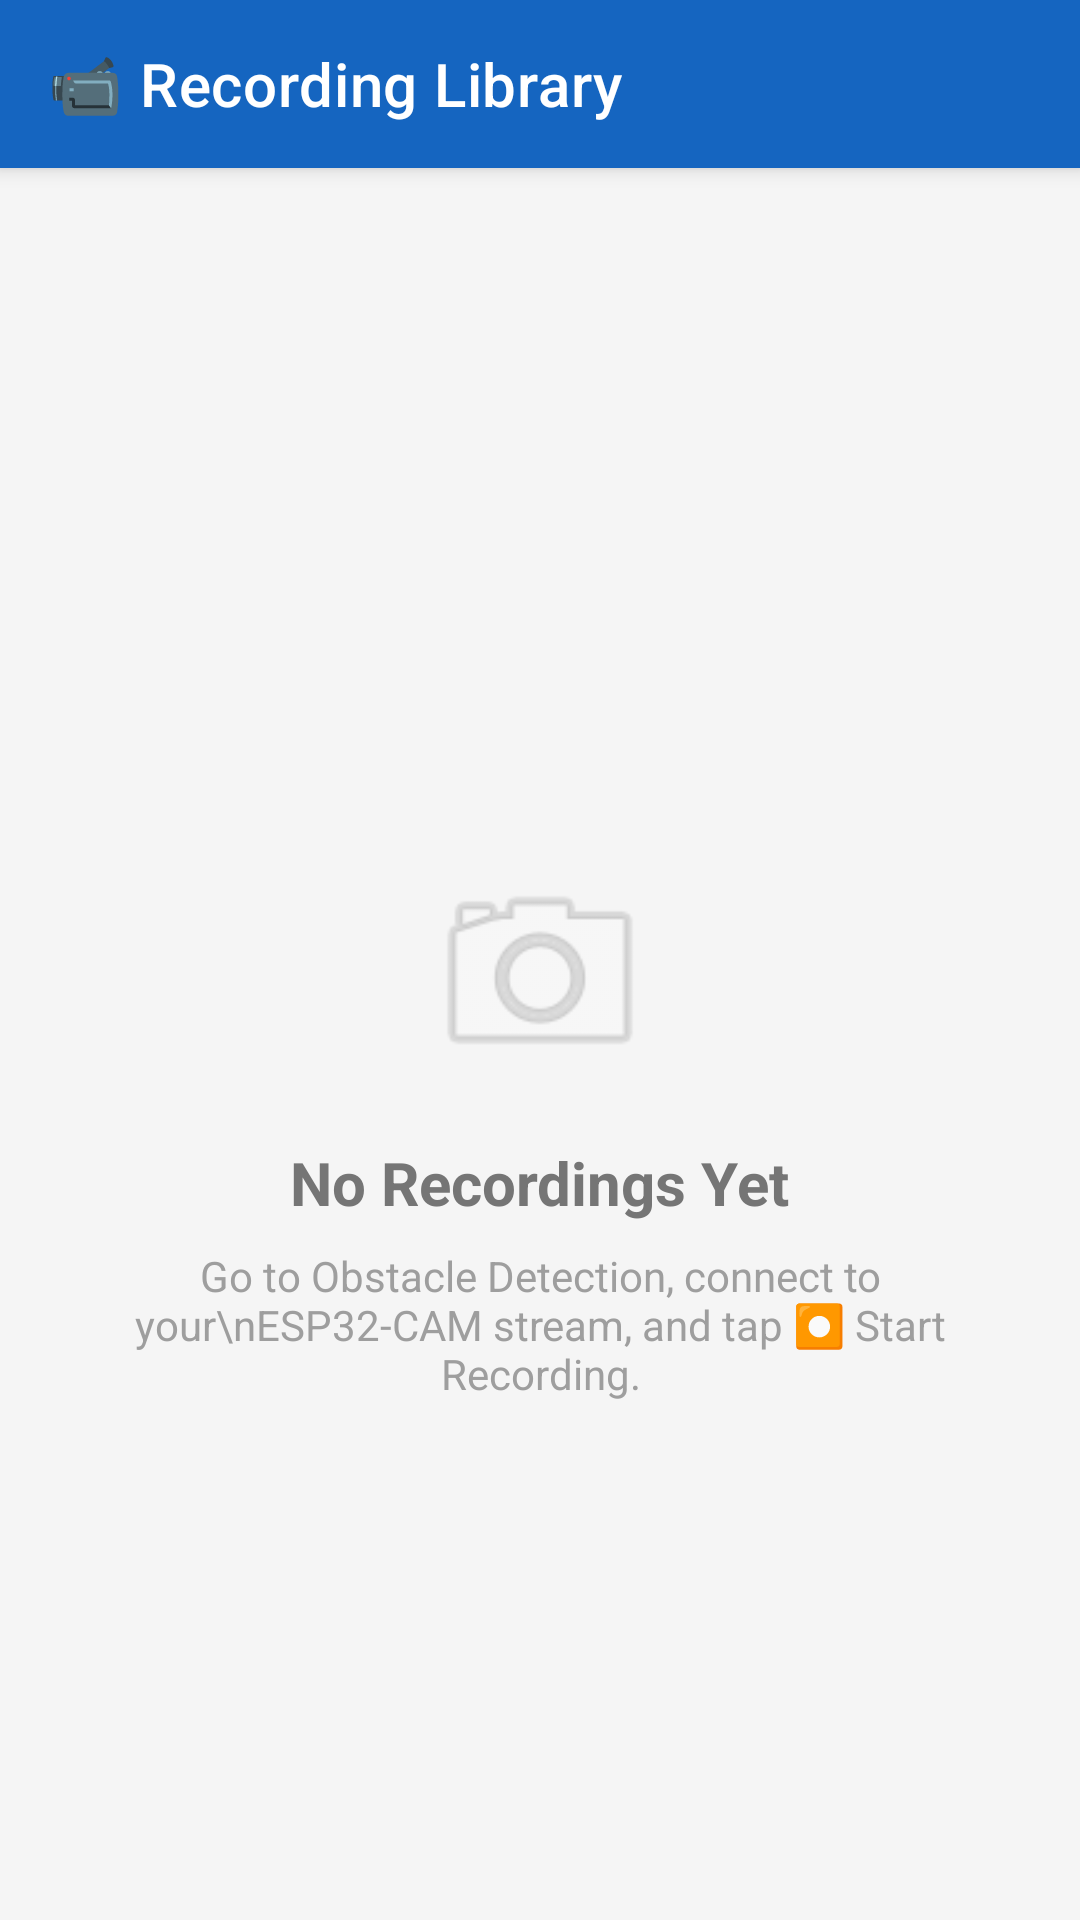

Screen size 1080x1920. Icon name, then its box in pixels as (x1, y1, x2, y2):
camera: (450, 899, 630, 1041)
